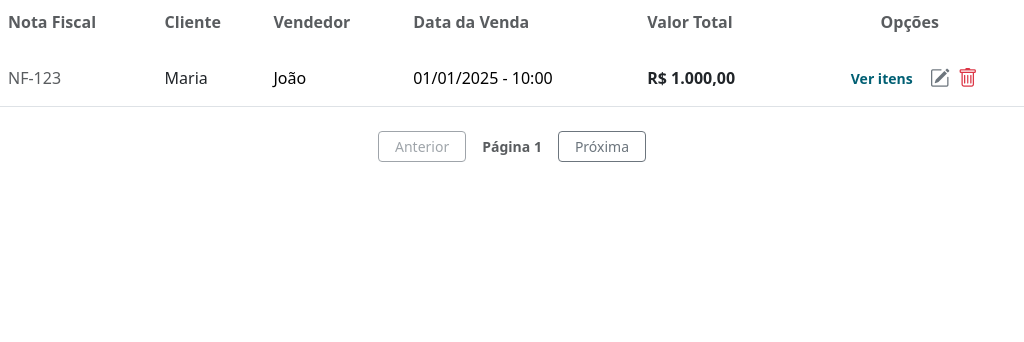
SalesTable › deve fechar os itens da venda
Click the button "Ver itens" at (882, 78), box [842, 62, 922, 94]
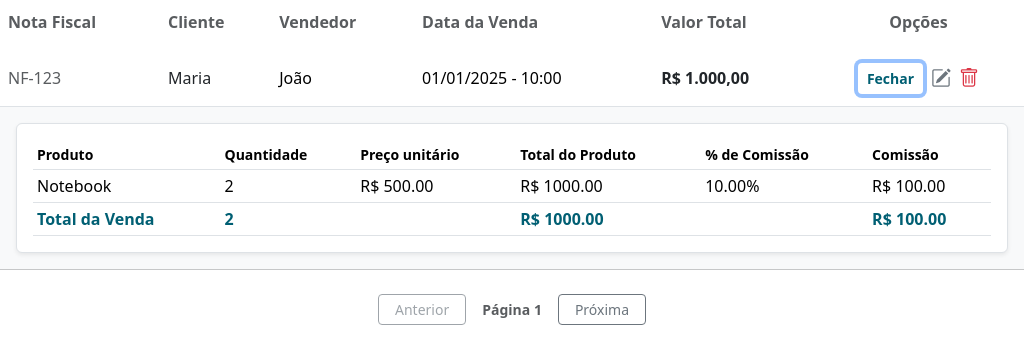
Expected: the text "Notebook" is shown, [33, 170, 220, 202]
Click the button "Fechar" at (890, 78), box [858, 62, 923, 94]
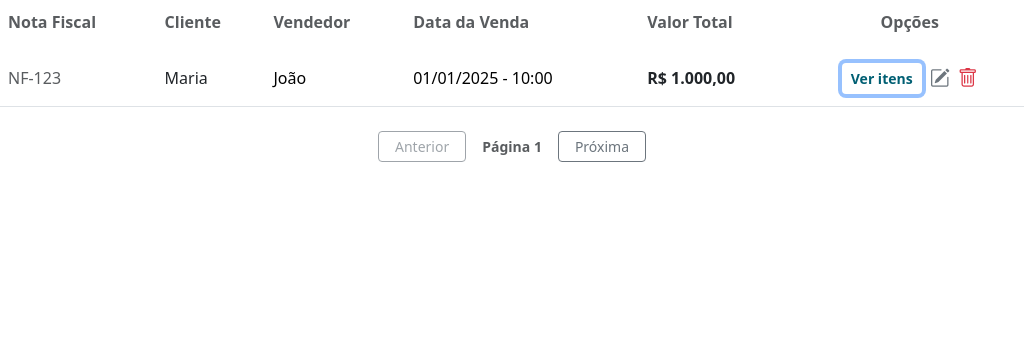
Expected: the column heading "Preço unitário" is gone
